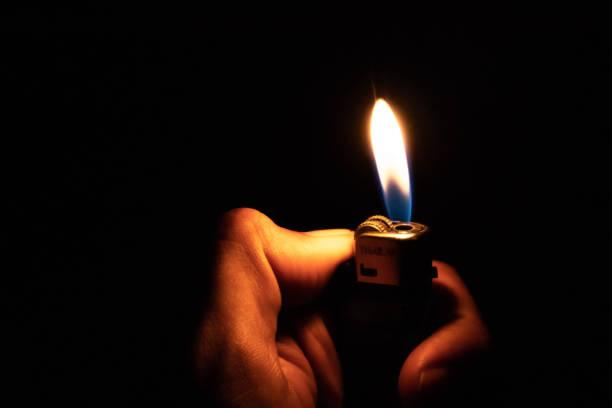Fire: (361, 92, 414, 214)
